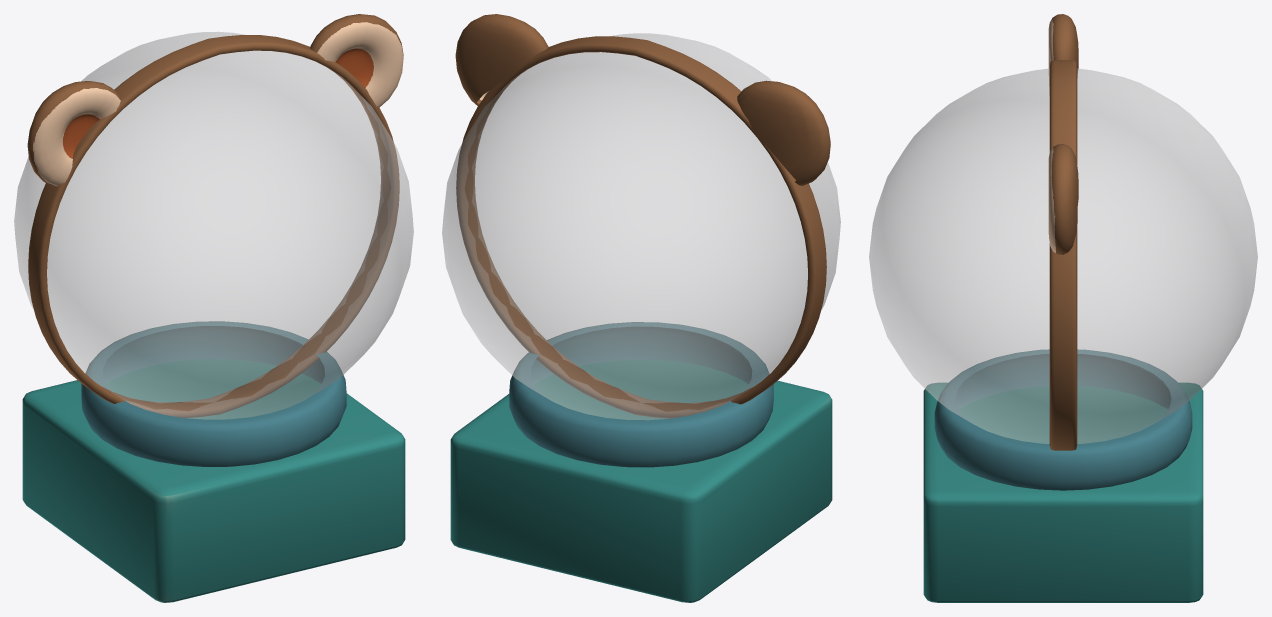
File: gacha-machine.glb
3 renders of one model, left to right at view 1: azimuth 30°, elevation 25°; view 2: azimuth 150°, elevation 25°; view 3: azimuth 270°, elevation 25°, orthographic. The views are drawn at different scales.
Parts seen in each view (by area): view 1: Sphere, Cube, Sphere.001, Sphere.002, Ear.003; view 2: Sphere, Cube, Sphere.001, Sphere.002, Ear.003; view 3: Sphere, Cube, Sphere.001, Sphere.002, Ear.003.
Part boxes in pixels (x1,y1,x2,y2): Sphere: (14,31,413,419); Cube: (22,359,405,602); Sphere.001: (81,321,346,466); Sphere.002: (28,35,399,417); Ear.003: (27,14,403,186); Sphere: (442,33,840,420); Cube: (450,360,832,602); Sphere.001: (509,322,773,467); Sphere.002: (456,36,826,418); Ear.003: (455,14,830,185); Sphere: (869,68,1257,443); Cube: (923,383,1203,602); Sphere.001: (934,349,1192,490); Sphere.002: (1049,60,1077,450); Ear.003: (1048,14,1078,254).
Size of the model in its own units: 3 by 3.7 by 2.78.
2 materials, 1 textured.
